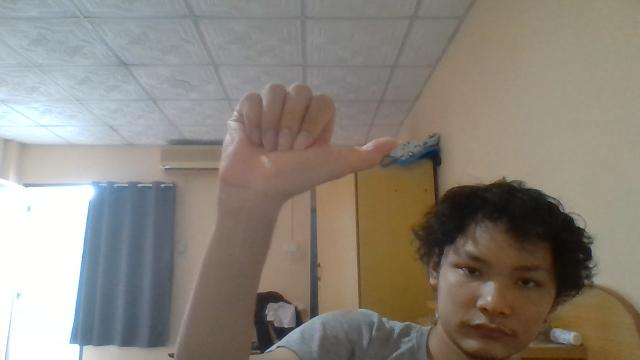left: (218, 82, 398, 202)
